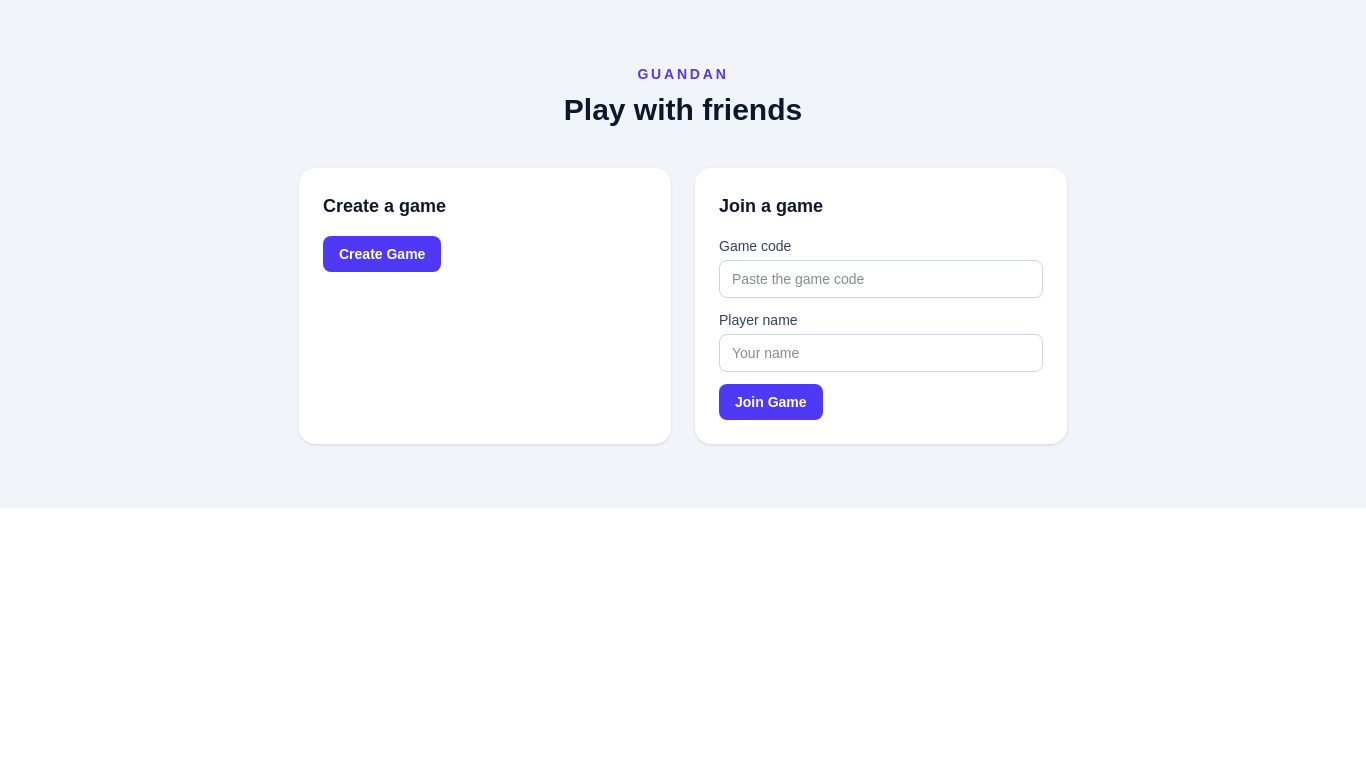
Test case: Home › shows an error and does not navigate when joining fails
This screenshot has width=1366, height=768.
Type "missing-game" into the field with test id "game-id-input" at (881, 279), box [719, 260, 1043, 298]
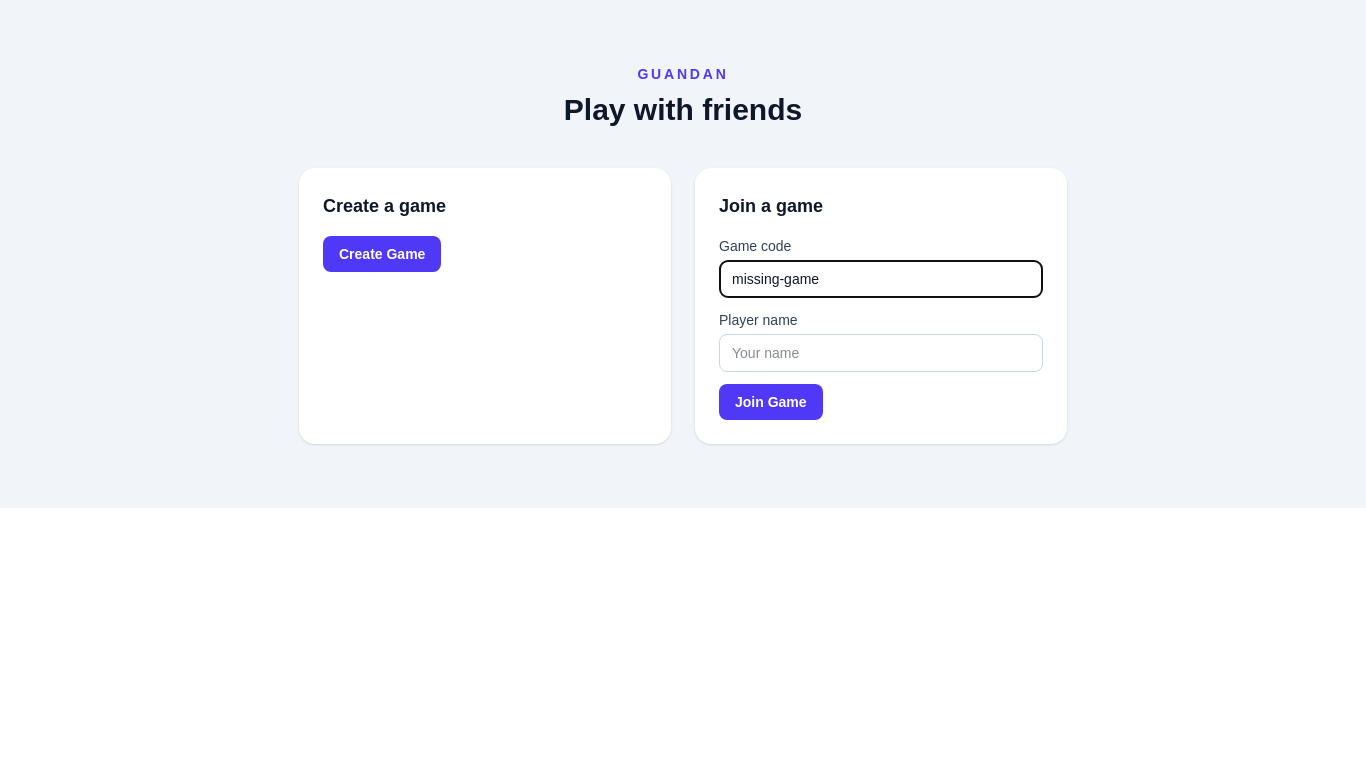
Type "Alice" into the field with test id "player-name-input" at (881, 353), box [719, 334, 1043, 372]
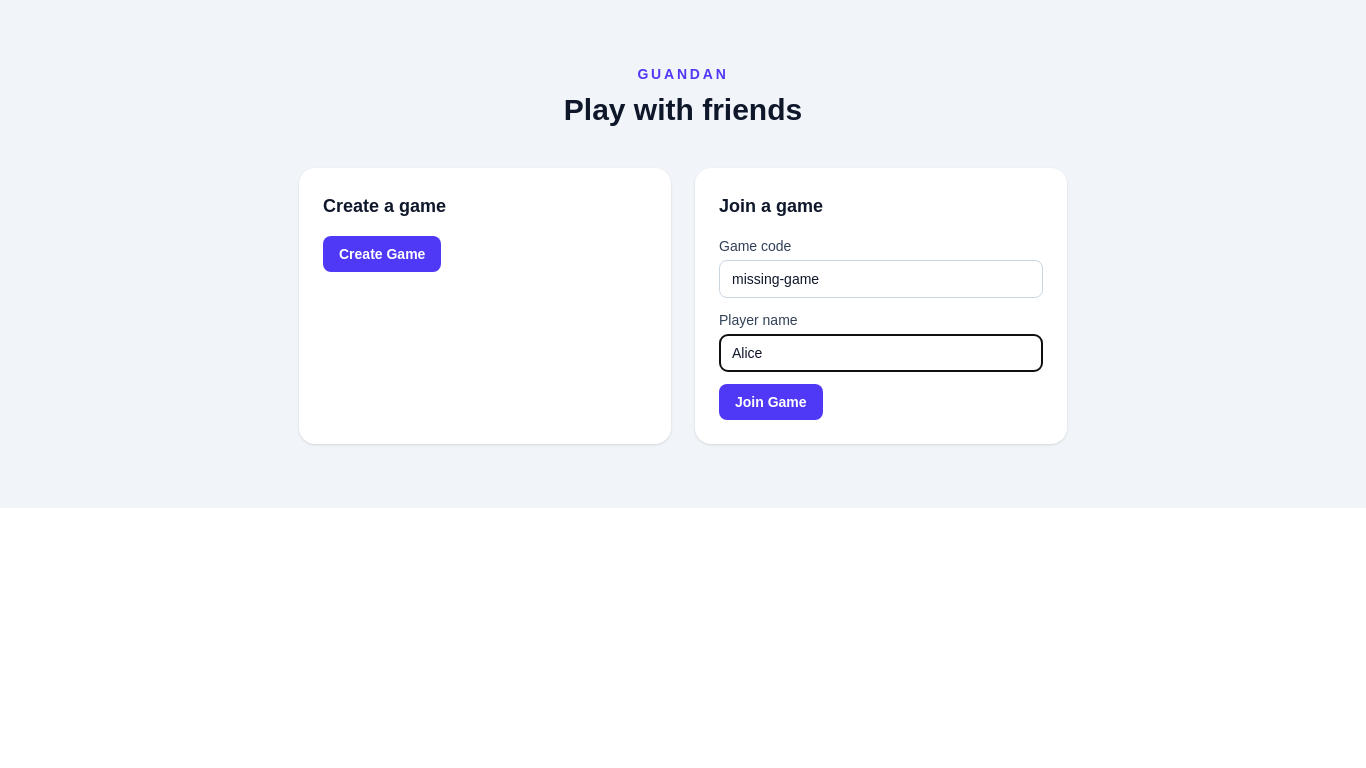
Click the button with test id "join-game-button" at (771, 402), box [719, 384, 823, 420]
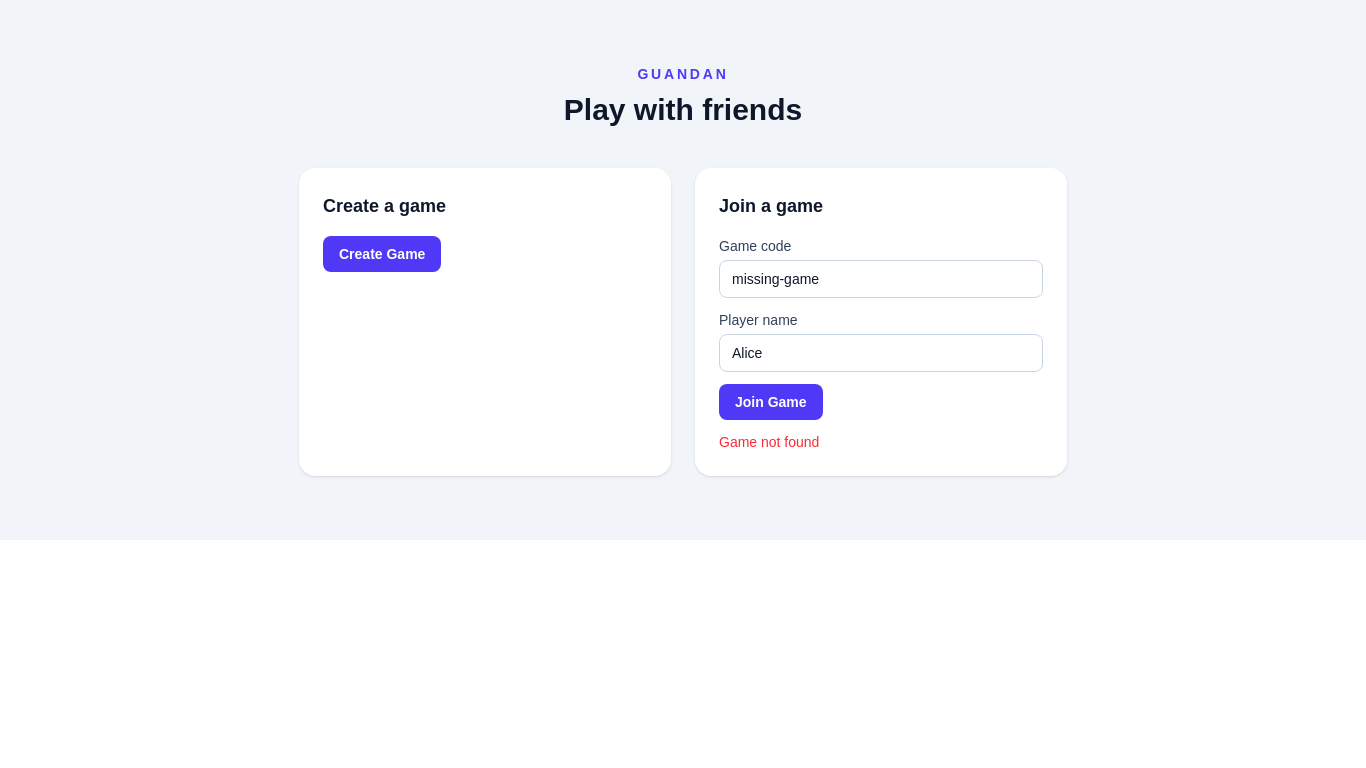
Result: the text with test id "join-game-error" reads "Game not found" at [719, 434, 819, 450]
